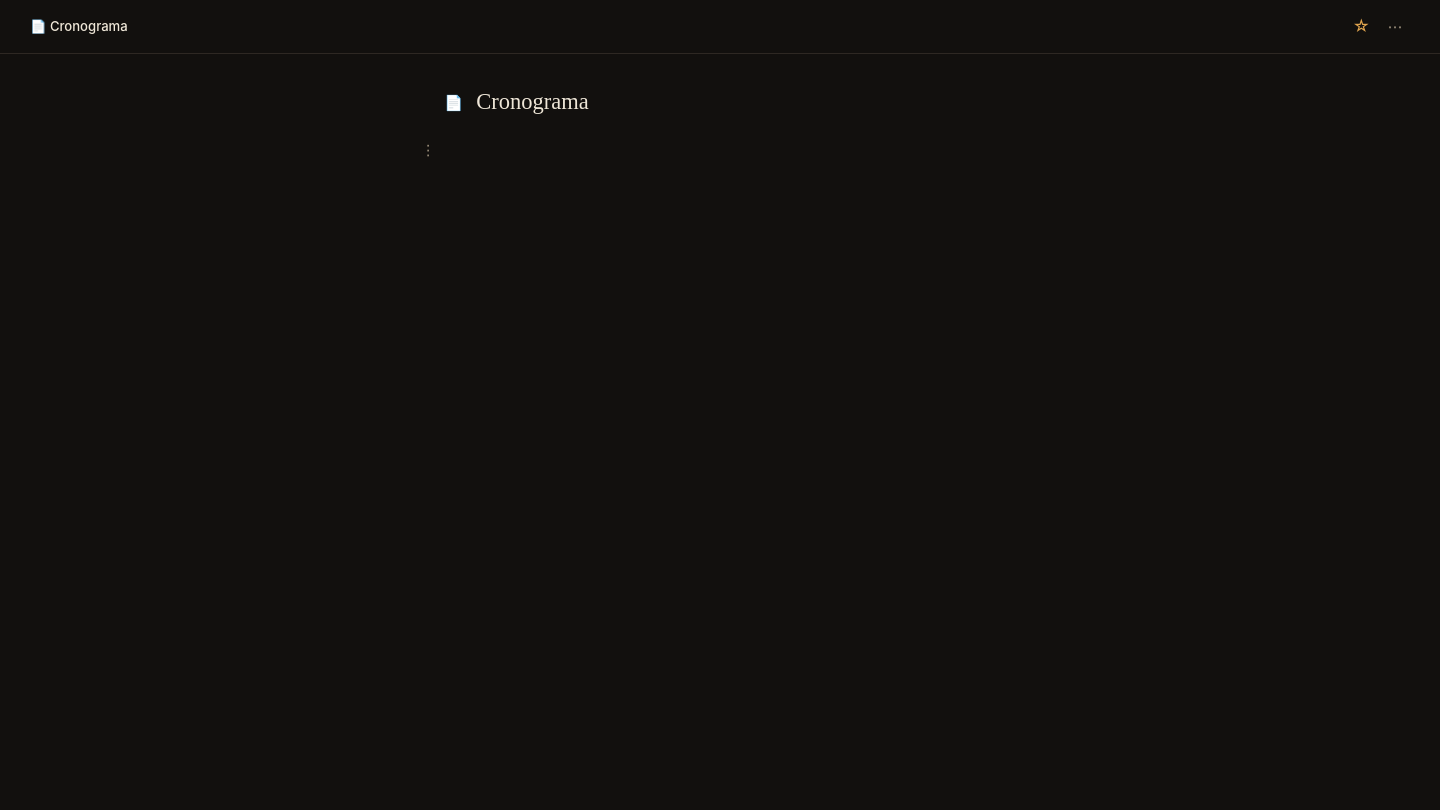
Scenario: PageWorkspace › FUN-035: 'Histórico' no menu de opções da página abre o VersionHistoryDialog
Step 1. Click the button named "Mais opções da página" → (1395, 26), box [1380,11,1410,41]
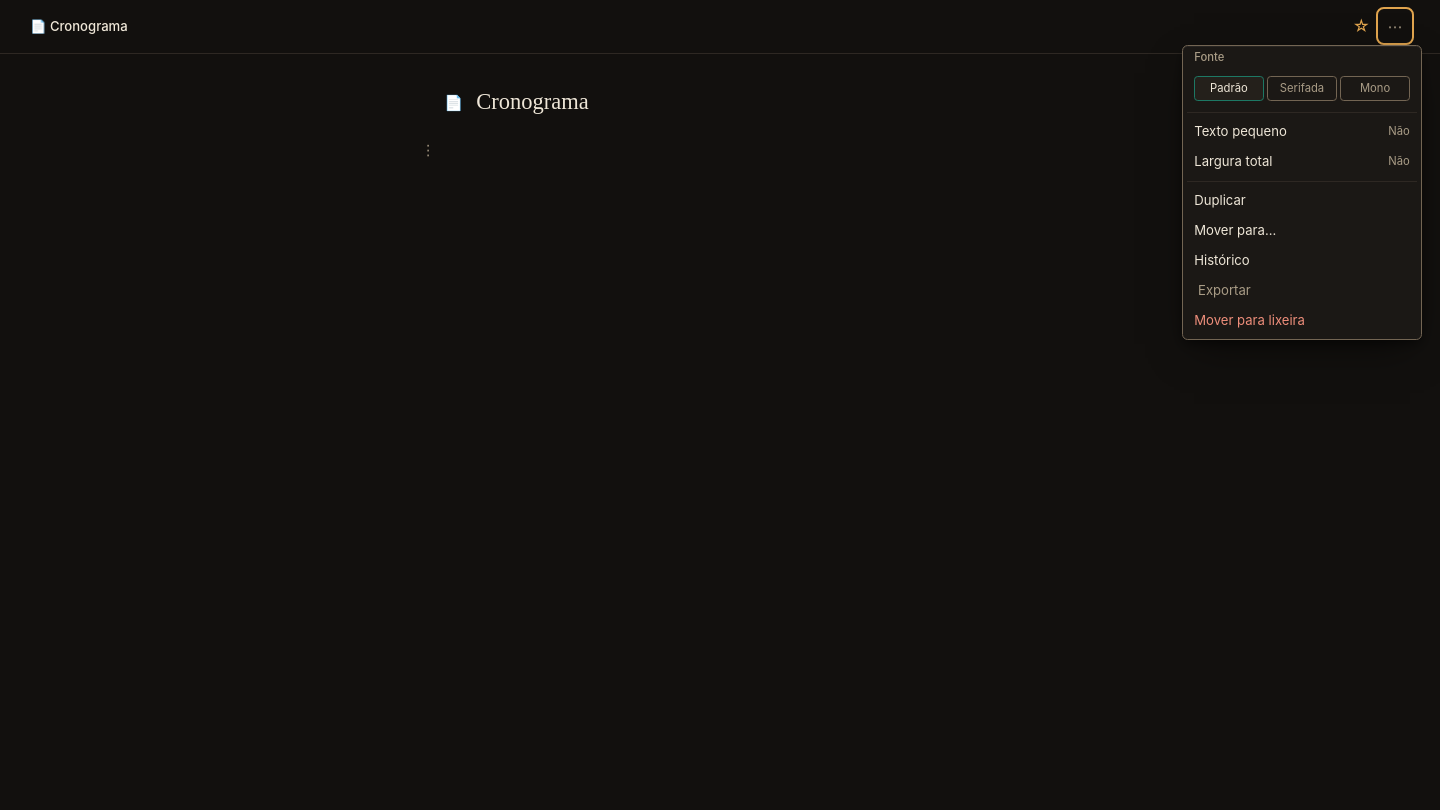
Step 2. Click the button "Histórico" → (1302, 260), box [1187,245,1417,275]
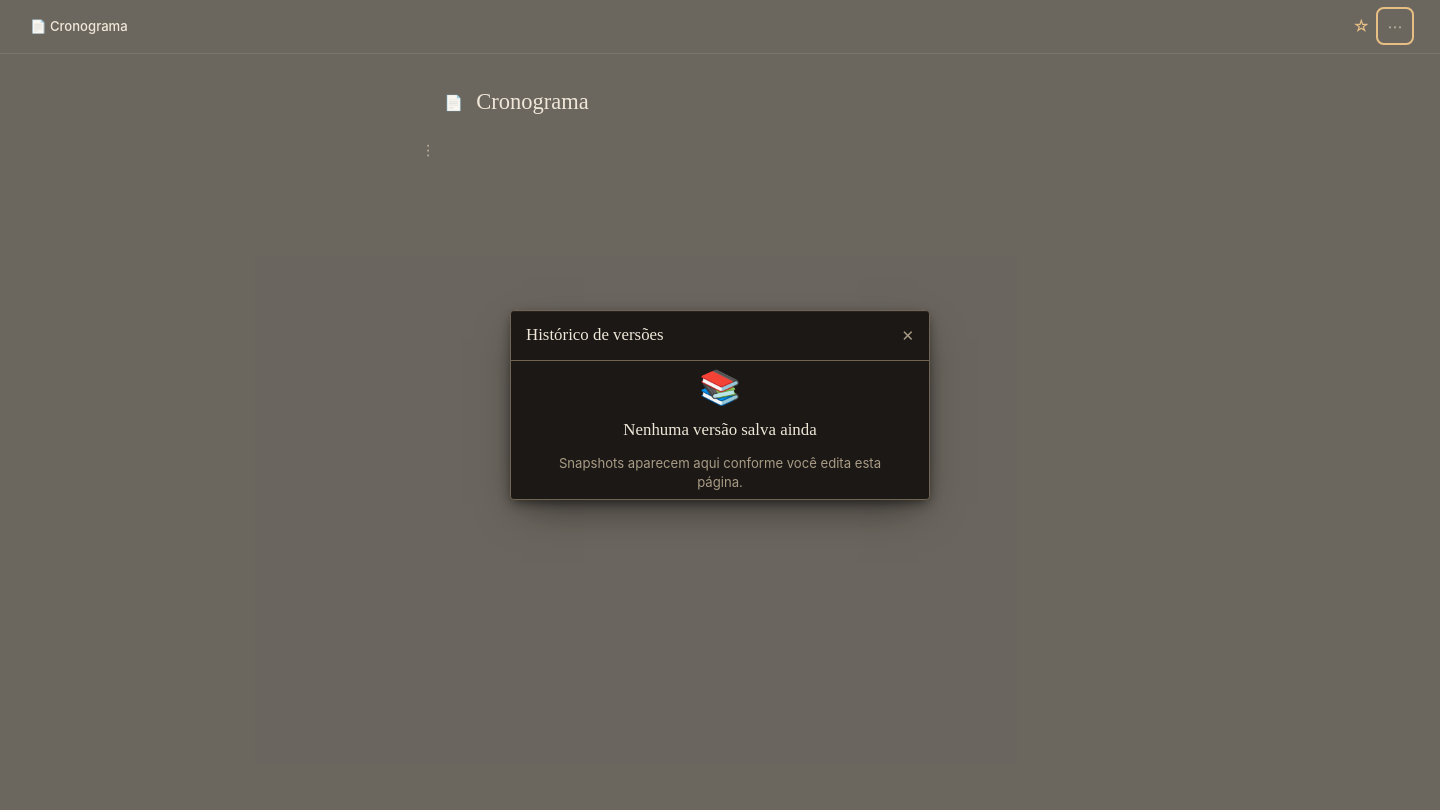
expect the dialog named "Histórico de versões de Cronograma" is shown: met, box [510,310,930,500]
